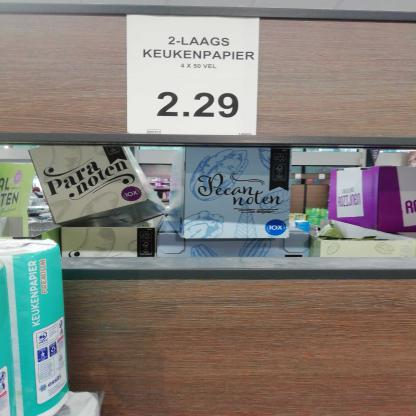prtg: (127, 15, 261, 136)
